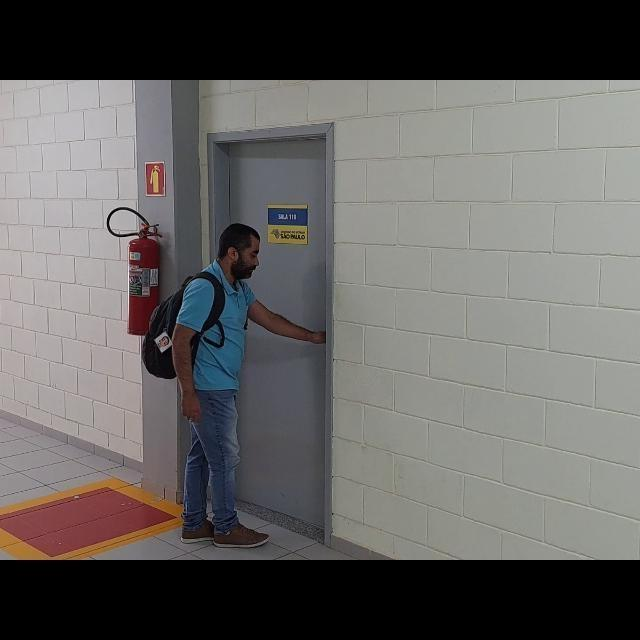door: (205, 123, 331, 541)
